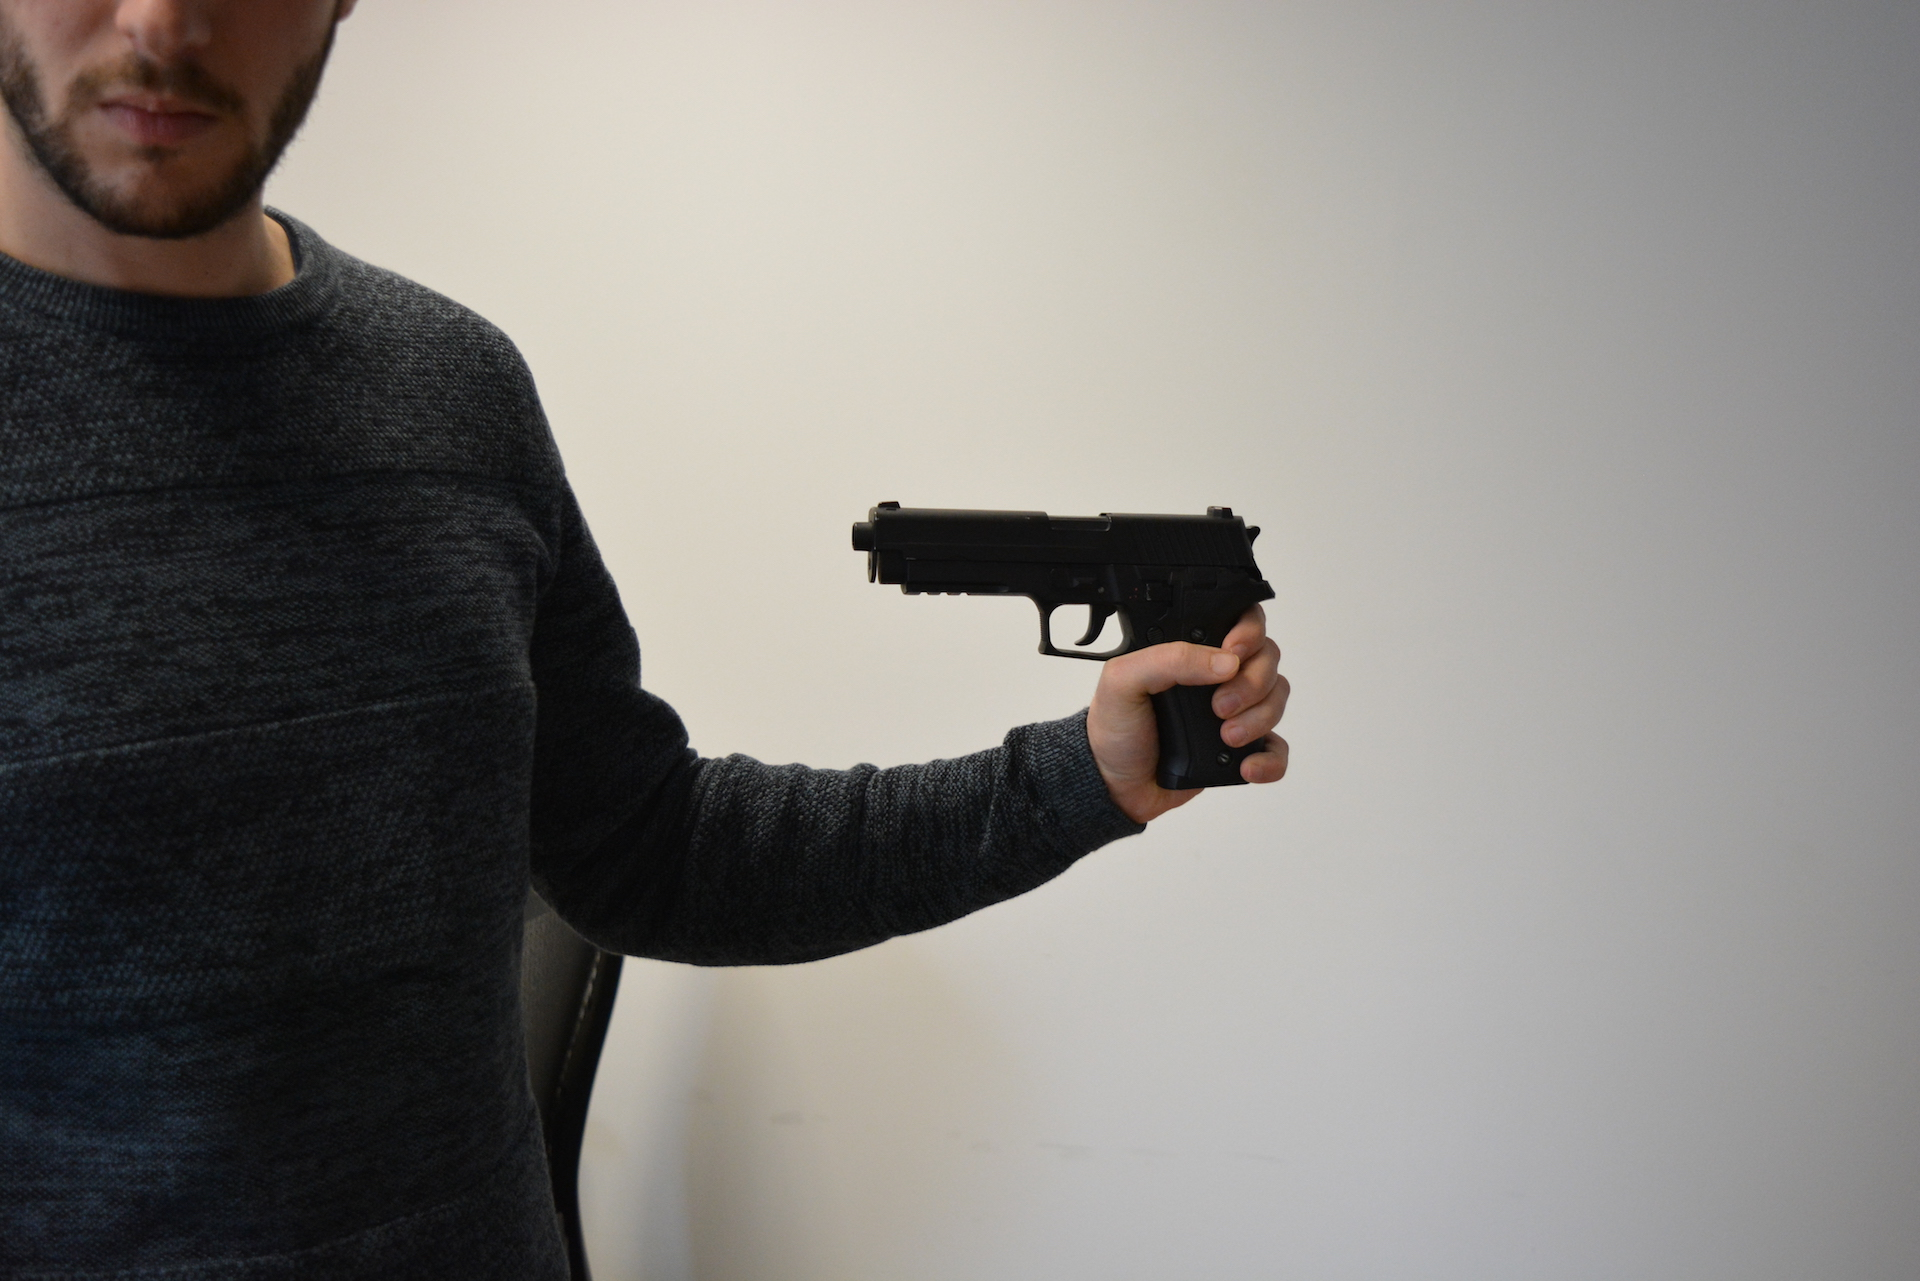pistol: (851, 498, 1281, 793)
